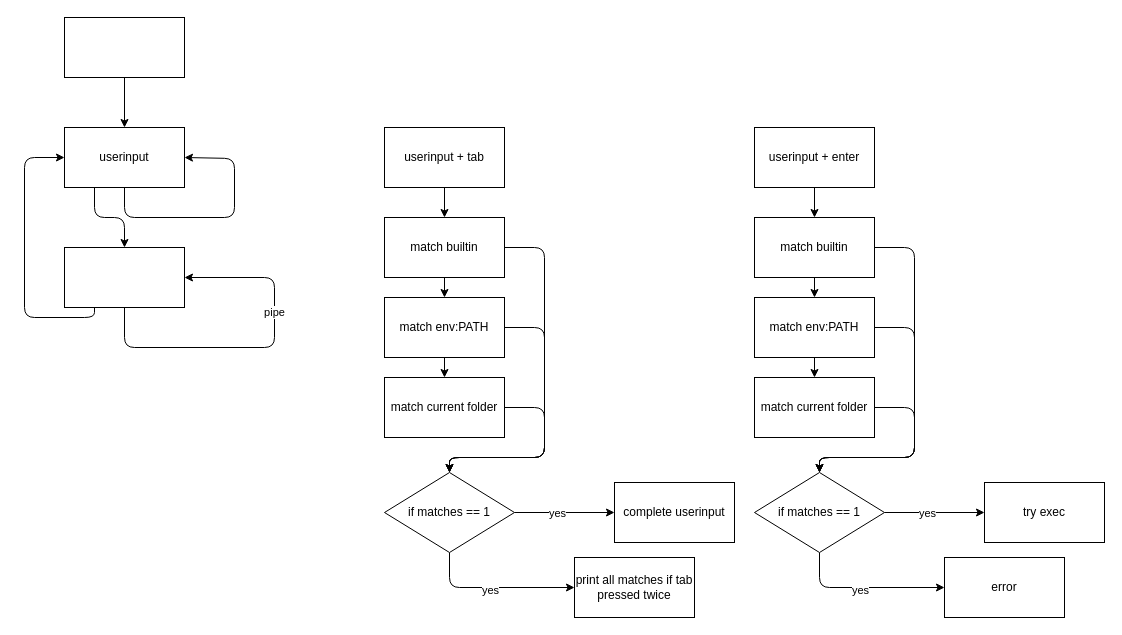
The diagram is 1122 pixels wide and 635 high, and some of its shapes have lost their labels. Here are the shapes that lost their labels. From the top down, the box of each, then its label:
(64, 16, 184, 78): start
(64, 246, 184, 308): exec
